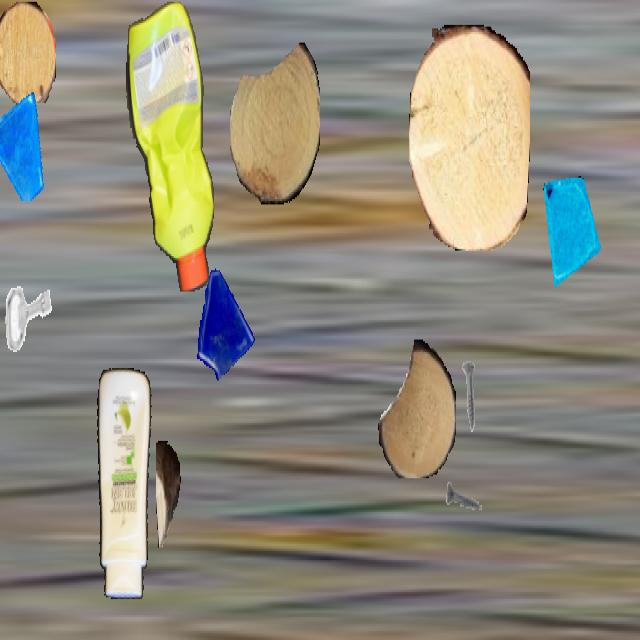glass: (191, 263, 257, 381), (540, 176, 604, 290), (0, 89, 47, 199)
metal: (0, 263, 57, 370), (449, 359, 491, 434), (445, 459, 487, 533)
plastic: (125, 2, 215, 290), (90, 368, 154, 599)
wood: (409, 25, 529, 249), (230, 41, 320, 204), (378, 340, 456, 478), (0, 2, 55, 105), (156, 441, 180, 547)
